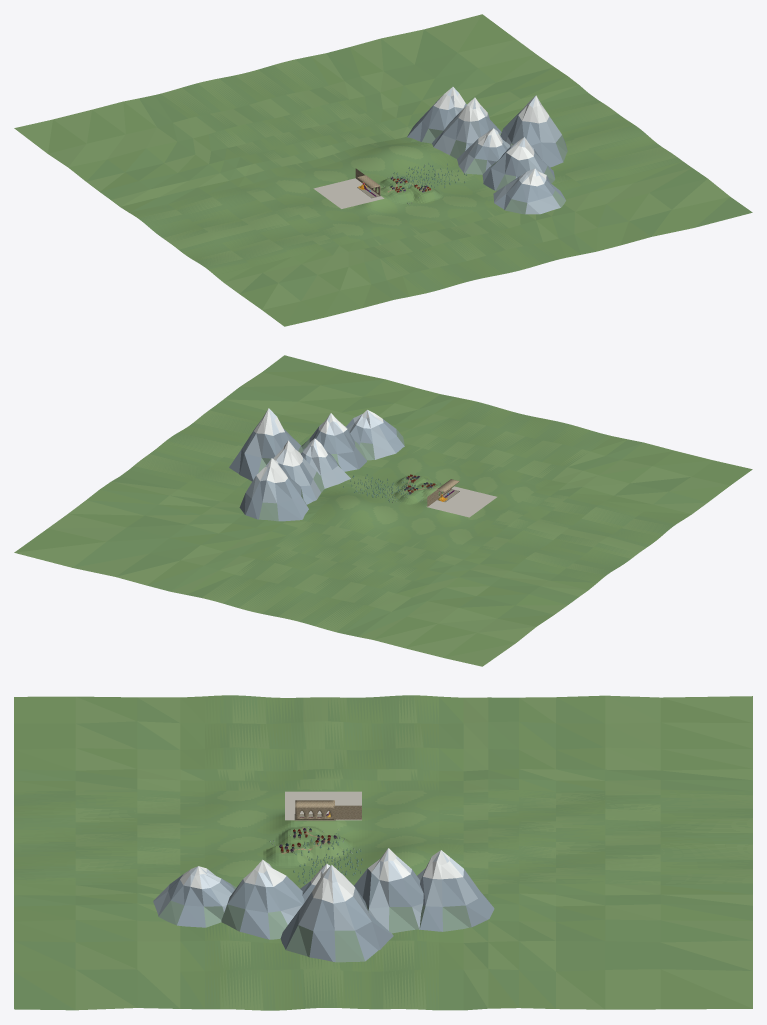
File: royal-court.glb
The picture shows the model from 3 angles, top to bottom: view 1: azimuth 30°, elevation 25°; view 2: azimuth 150°, elevation 25°; view 3: azimuth 270°, elevation 25°; orthographic projection. The views are drawn at different scales.
Parts seen in each view (by area): view 1: Court_on_grassy_hill, Distant_Snow_Peak_3, Distant_Snow_Peak_1, Distant_Snow_Peak_5, Distant_Snow_Peak_4, Distant_Snow_Peak_2, Distant_Snow_Peak_6, Gameplay_Foreground_Floor_Continuation; view 2: Court_on_grassy_hill, Distant_Snow_Peak_2, Distant_Snow_Peak_3, Distant_Snow_Peak_1, Distant_Snow_Peak_4, Distant_Snow_Peak_5, Distant_Snow_Peak_6, Gameplay_Foreground_Floor_Continuation; view 3: Court_on_grassy_hill, Distant_Snow_Peak_3, Distant_Snow_Peak_4, Distant_Snow_Peak_2, Distant_Snow_Peak_5, Distant_Snow_Peak_1, Gameplay_Foreground_Floor_Continuation, court_wall.
Boxes of the visible parts, <box> form: Court_on_grassy_hill: <box>14,14,752,326</box>; Distant_Snow_Peak_3: <box>500,95,567,167</box>; Distant_Snow_Peak_1: <box>493,168,565,214</box>; Distant_Snow_Peak_5: <box>432,97,501,158</box>; Distant_Snow_Peak_4: <box>482,137,555,190</box>; Distant_Snow_Peak_2: <box>407,87,466,143</box>; Distant_Snow_Peak_6: <box>457,128,509,174</box>; Gameplay_Foreground_Floor_Continuation: <box>313,178,384,208</box>; Court_on_grassy_hill: <box>14,355,752,666</box>; Distant_Snow_Peak_2: <box>239,458,308,521</box>; Distant_Snow_Peak_3: <box>229,408,303,481</box>; Distant_Snow_Peak_1: <box>346,410,404,460</box>; Distant_Snow_Peak_4: <box>301,413,367,471</box>; Distant_Snow_Peak_5: <box>273,440,324,504</box>; Distant_Snow_Peak_6: <box>300,438,350,488</box>; Gameplay_Foreground_Floor_Continuation: <box>426,486,496,517</box>; Court_on_grassy_hill: <box>14,695,752,1010</box>; Distant_Snow_Peak_3: <box>280,865,393,962</box>; Distant_Snow_Peak_4: <box>221,859,304,939</box>; Distant_Snow_Peak_2: <box>417,850,494,931</box>; Distant_Snow_Peak_5: <box>354,848,423,933</box>; Distant_Snow_Peak_1: <box>153,866,236,927</box>; Gameplay_Foreground_Floor_Continuation: <box>285,791,361,820</box>; court_wall: <box>295,800,334,819</box>.
Bounding box in the file's own units: 1200 × 144 × 1200.
Materials: 29 (10 with a texture image).
